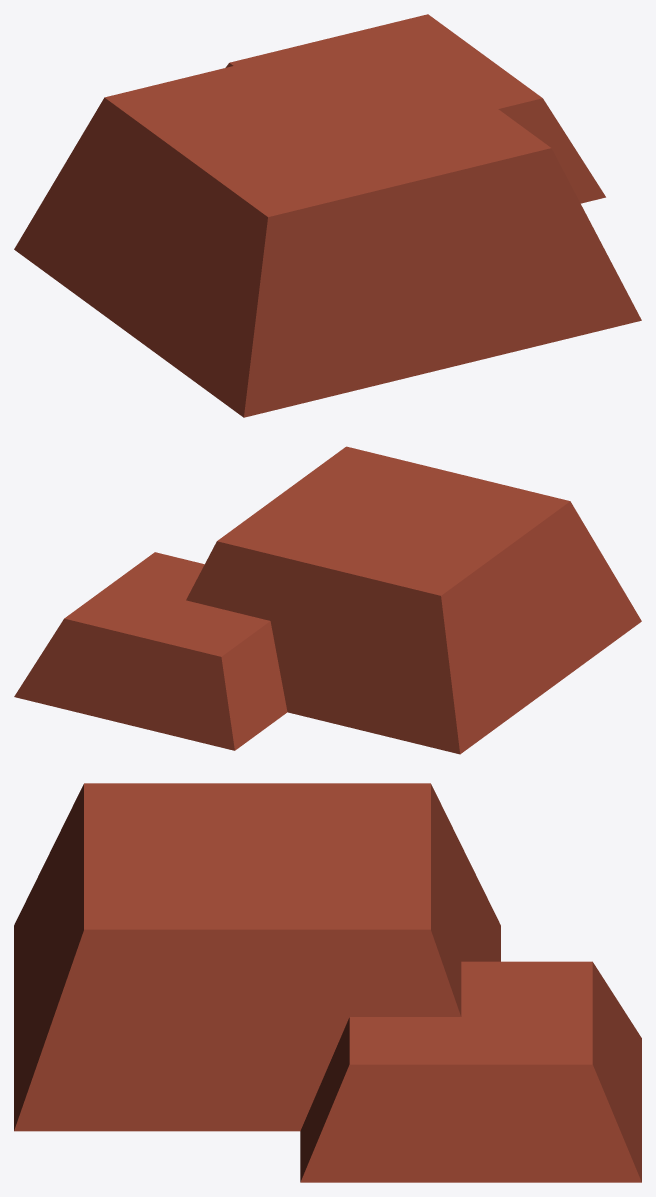
Rendered from SM_Env_Rocks_04.fbx.
3 views of the same model, one above another, from view 1: azimuth 30°, elevation 25°; view 2: azimuth 150°, elevation 25°; view 3: azimuth 270°, elevation 25° (orthographic). The views are drawn at different scales.
Parts seen in each view (by area): view 1: SM_Env_Rocks_04; view 2: SM_Env_Rocks_04; view 3: SM_Env_Rocks_04.
Part boxes in pixels (x1=…): SM_Env_Rocks_04: x1=14, y1=14, x2=641, y2=417; SM_Env_Rocks_04: x1=14, y1=446, x2=641, y2=754; SM_Env_Rocks_04: x1=14, y1=783, x2=641, y2=1182.
Bounding box in the file's own units: 1 × 0.3117 × 1.03.
